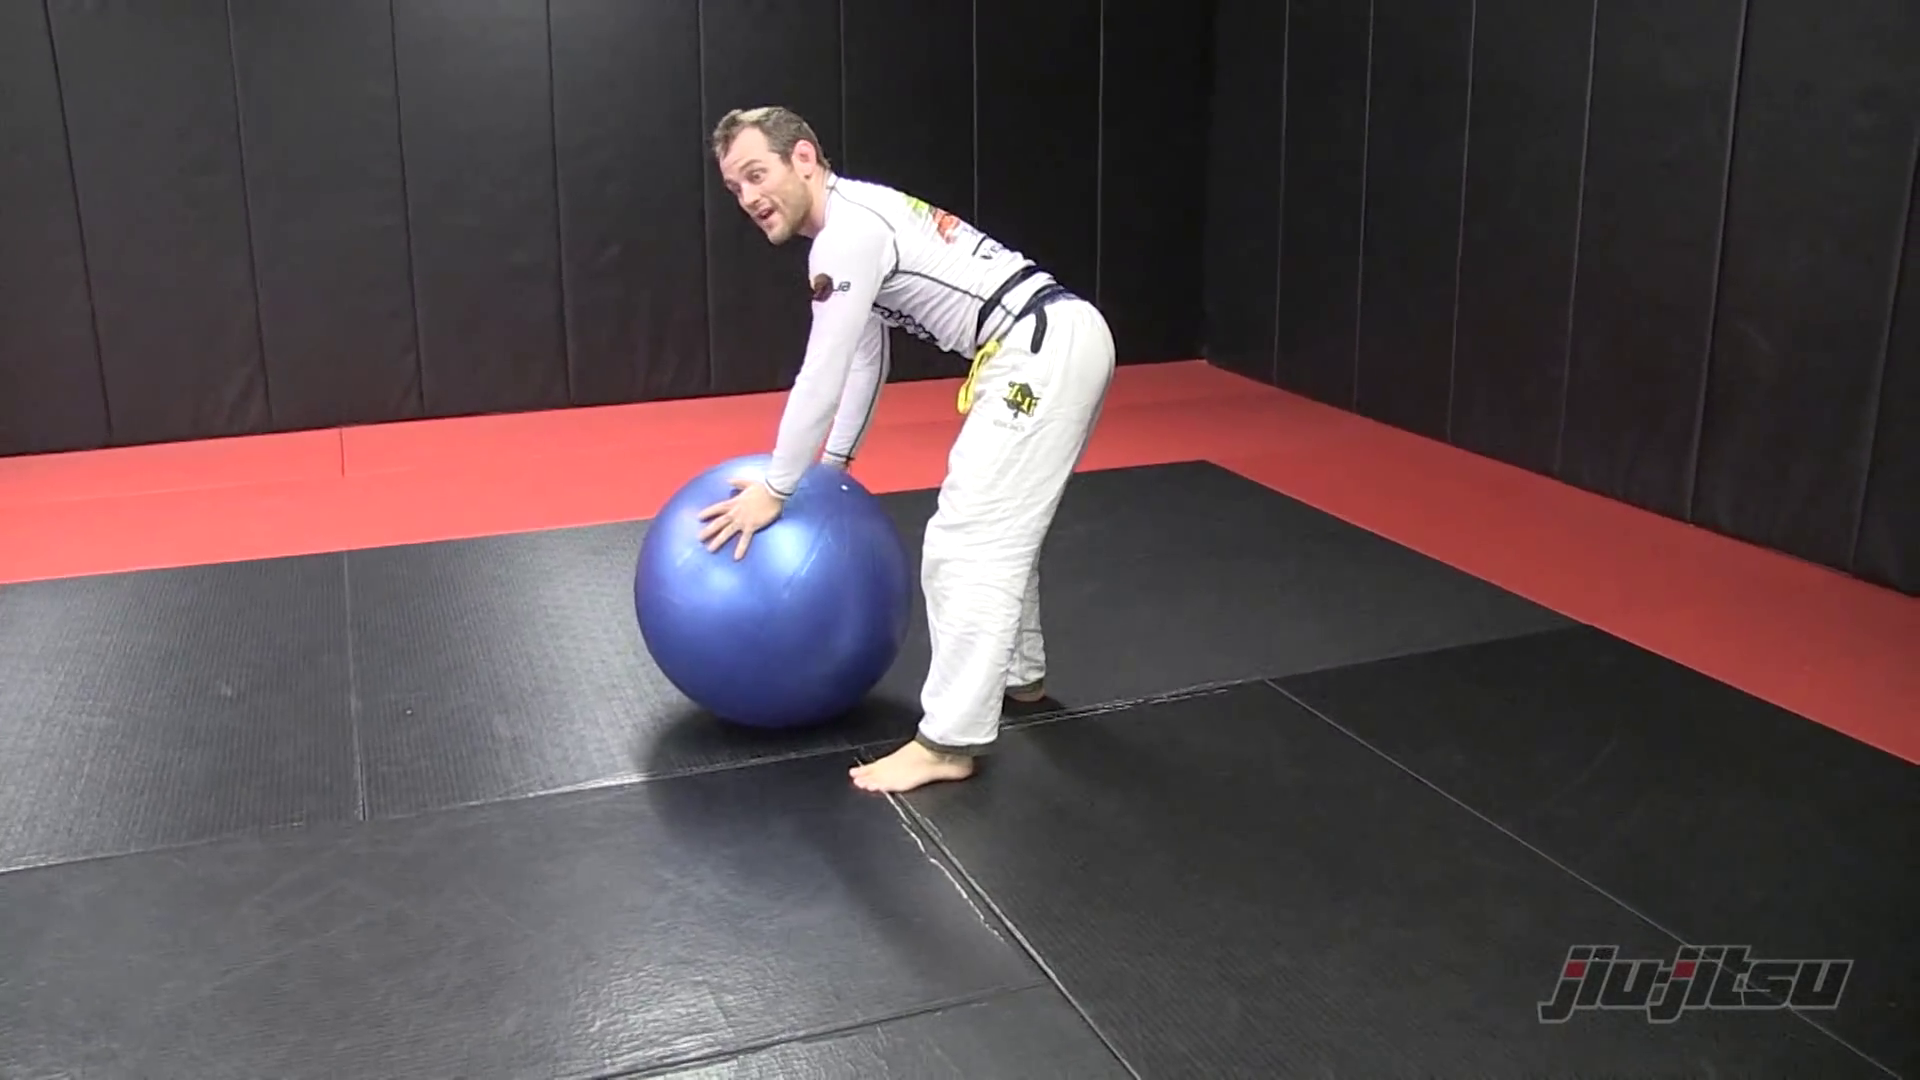yogaball: (611, 433, 922, 762)
